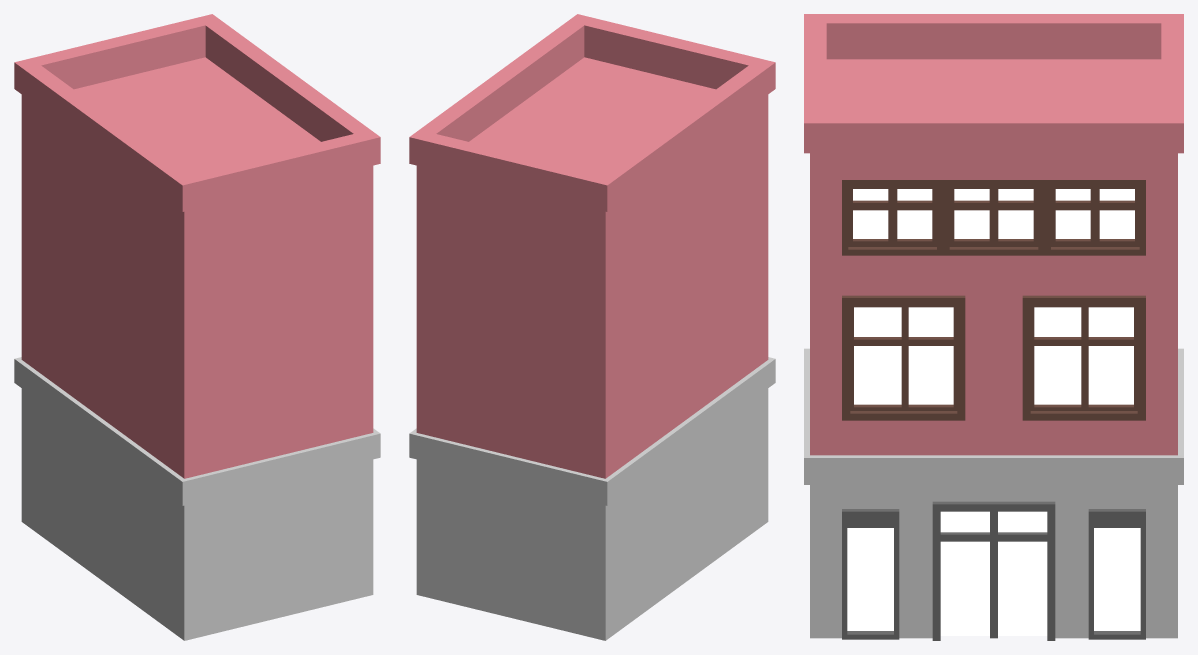
Rendered from House 5.5.fbx.
The picture shows the model from 3 angles, left to right: view 1: azimuth 30°, elevation 25°; view 2: azimuth 150°, elevation 25°; view 3: azimuth 270°, elevation 25°; orthographic projection. The views are drawn at different scales.
Parts seen in each view (by area): view 1: House 5.006; view 2: House 5.006; view 3: House 5.006.
Part boxes in pixels (x1=…): House 5.006: x1=14, y1=14, x2=380, y2=640; House 5.006: x1=409, y1=14, x2=775, y2=640; House 5.006: x1=804, y1=14, x2=1183, y2=640.
Bounding box in the file's own units: 869 × 1923 × 1279.
